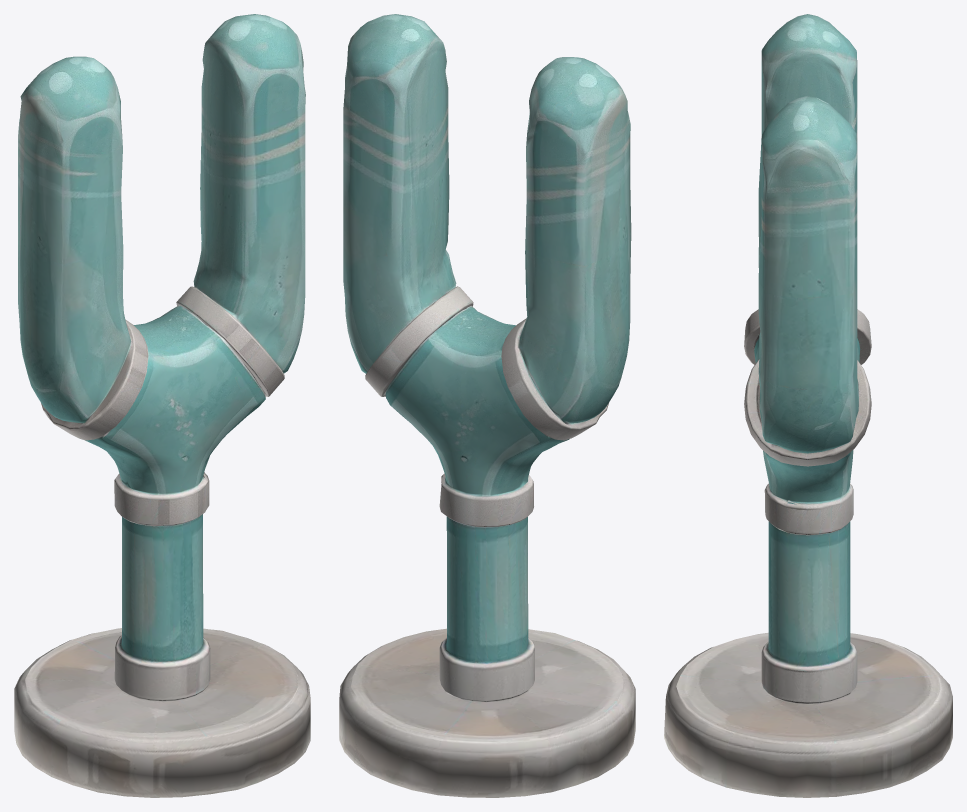
File: fork.glb
3 renders of one model, left to right at view 1: azimuth 30°, elevation 25°; view 2: azimuth 150°, elevation 25°; view 3: azimuth 270°, elevation 25°, orthographic. The views are drawn at different scales.
Bounding box in the file's own units: 0.3979 × 1 × 0.387.
Materials: 1 (1 with a texture image).
